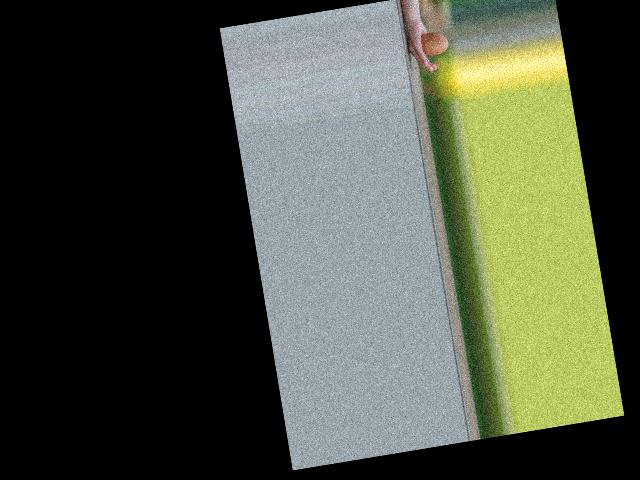egg: (419, 29, 449, 56)
